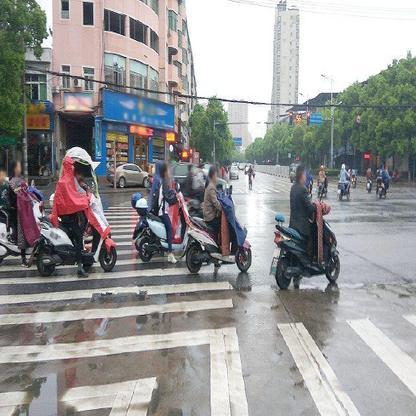target: (270, 164, 341, 291), (186, 166, 253, 275)
